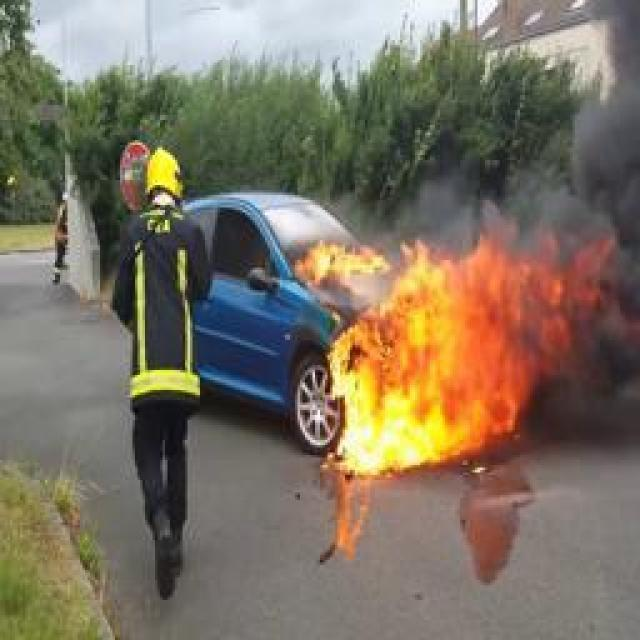Fire: (332, 238, 612, 472), (294, 237, 388, 285)
